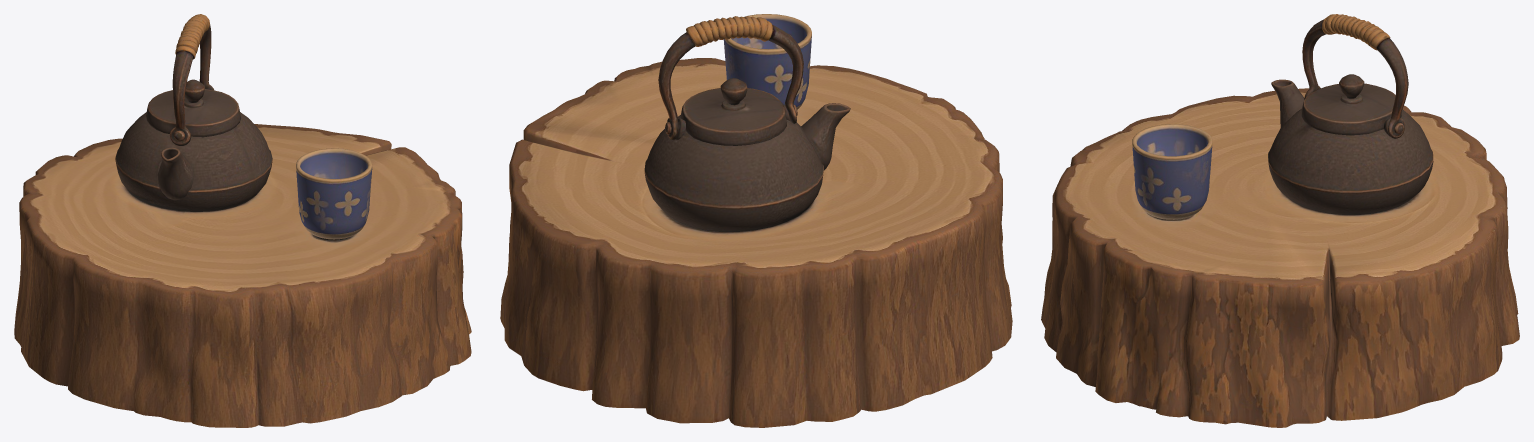
The model's file is stump_kettle.glb.
3 renders of one model, left to right at view 1: azimuth 30°, elevation 25°; view 2: azimuth 150°, elevation 25°; view 3: azimuth 270°, elevation 25°, orthographic. The views are drawn at different scales.
Visible parts, largest first — view 1: tripo_node_6c212ab8-36a1-4845-9dc5-e16b5e544fb5; view 2: tripo_node_6c212ab8-36a1-4845-9dc5-e16b5e544fb5; view 3: tripo_node_6c212ab8-36a1-4845-9dc5-e16b5e544fb5.
Boxes of the visible parts, bbox=[...] form: tripo_node_6c212ab8-36a1-4845-9dc5-e16b5e544fb5: bbox=[14, 14, 471, 427]; tripo_node_6c212ab8-36a1-4845-9dc5-e16b5e544fb5: bbox=[500, 14, 1012, 427]; tripo_node_6c212ab8-36a1-4845-9dc5-e16b5e544fb5: bbox=[1041, 14, 1519, 427].
Size of the model in its own units: 0.9995 by 0.6968 by 0.9985.
1 material, 1 textured.
